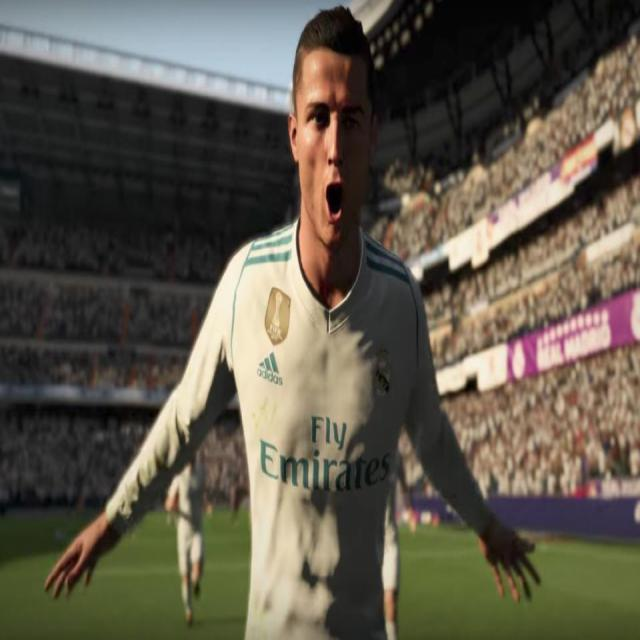Adidas: (256, 352, 284, 386)
Emirates: (260, 408, 392, 496)
